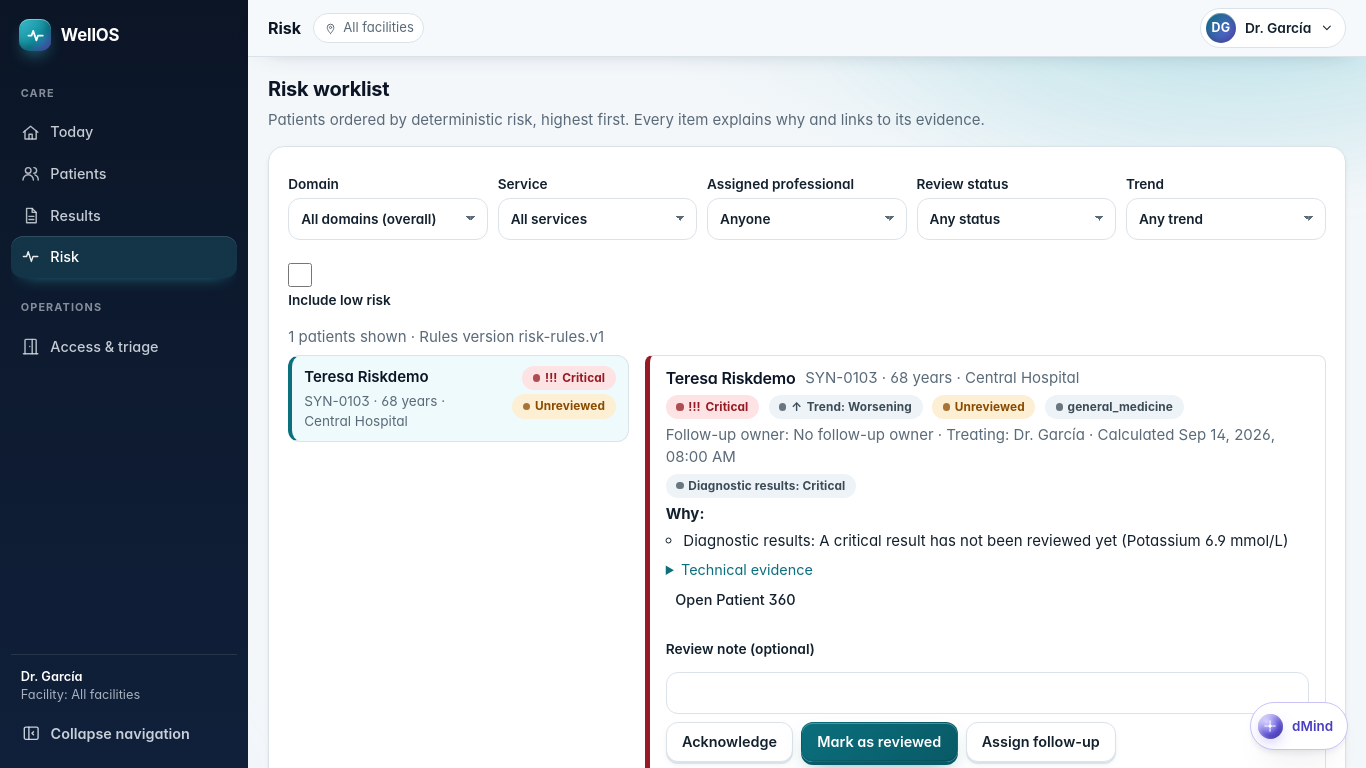
risk worklist › assign requires choosing a professional and posts the assignee
Later steps or results of the test are not shown.
Click the button "Assign follow-up": (1041, 742) 966,722 -> 1116,762
(page scrolled)
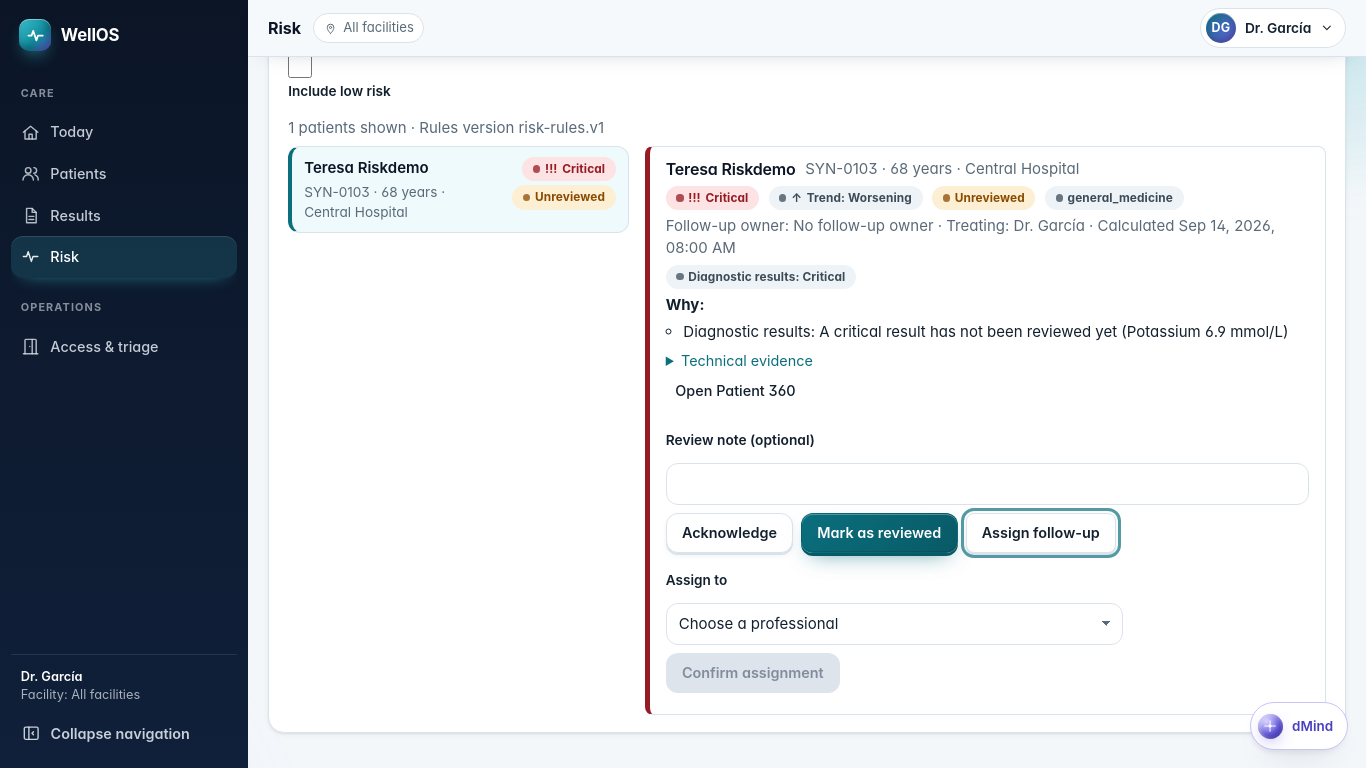
Expected: the button "Confirm assignment" is disabled, 666,653 -> 840,693
